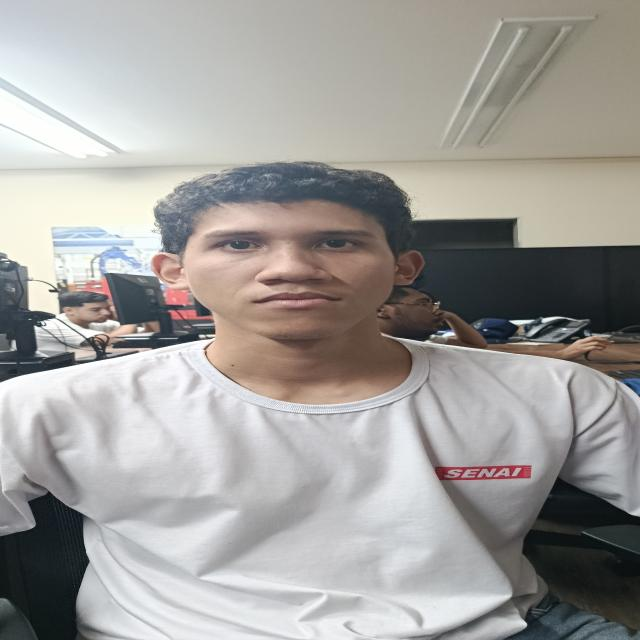sem_oculos: (156, 232, 434, 274), (382, 297, 448, 313), (59, 301, 117, 316)
